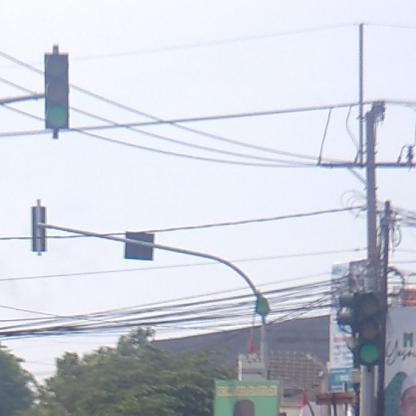green: (353, 290, 384, 366), (43, 51, 72, 131)
